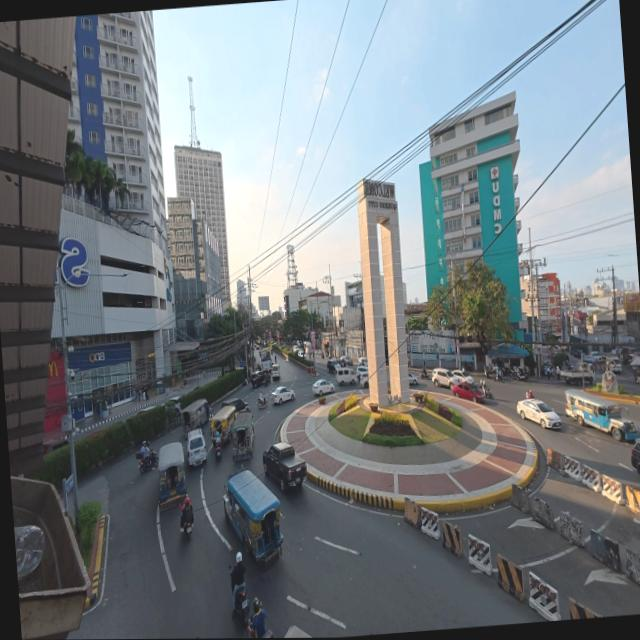Jeepneys: (223, 469, 282, 564), (565, 391, 638, 441), (157, 443, 185, 508), (230, 413, 253, 461), (180, 398, 211, 433), (209, 405, 235, 442)
car: (516, 399, 560, 429), (187, 429, 206, 466), (452, 383, 483, 402), (431, 368, 459, 388), (220, 398, 249, 413), (42, 438, 68, 454), (271, 387, 294, 404), (311, 379, 334, 396), (630, 439, 639, 476), (451, 370, 473, 384), (250, 371, 266, 387), (355, 365, 368, 383), (166, 397, 180, 411), (326, 359, 339, 374), (136, 406, 155, 415), (338, 355, 352, 366), (271, 364, 279, 380), (359, 375, 368, 389), (408, 373, 417, 385), (589, 352, 600, 360), (358, 357, 367, 366), (291, 343, 299, 353), (297, 350, 303, 358), (639, 375, 640, 388)
motorcycle: (232, 586, 248, 624), (138, 451, 157, 472), (180, 512, 193, 540), (481, 382, 493, 399), (214, 437, 221, 460), (515, 370, 526, 381), (493, 370, 503, 382), (256, 398, 267, 408), (483, 366, 492, 378), (420, 370, 430, 379), (525, 389, 534, 398), (262, 630, 273, 637)
trucks: (262, 442, 306, 491), (560, 363, 594, 384)
vans: (335, 366, 355, 385), (606, 358, 621, 372)
